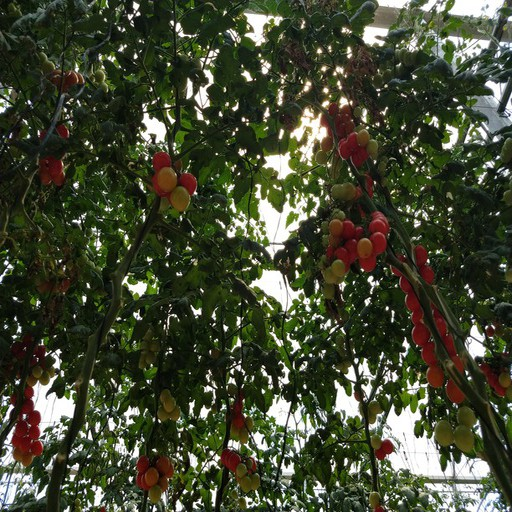green tomato bunch: (433, 405, 476, 452), (377, 48, 411, 87), (138, 326, 159, 373), (359, 394, 390, 422), (155, 389, 181, 421), (336, 337, 355, 375), (25, 364, 56, 386)
mixed tomato bunch: (321, 205, 389, 296), (29, 53, 108, 97), (147, 151, 197, 213), (315, 104, 354, 167), (133, 455, 172, 504), (218, 449, 261, 491), (336, 131, 382, 164), (329, 174, 378, 202), (479, 365, 512, 402), (227, 397, 254, 442)
red tomato bunch: (391, 246, 466, 405), (9, 387, 43, 463), (39, 124, 70, 187)
